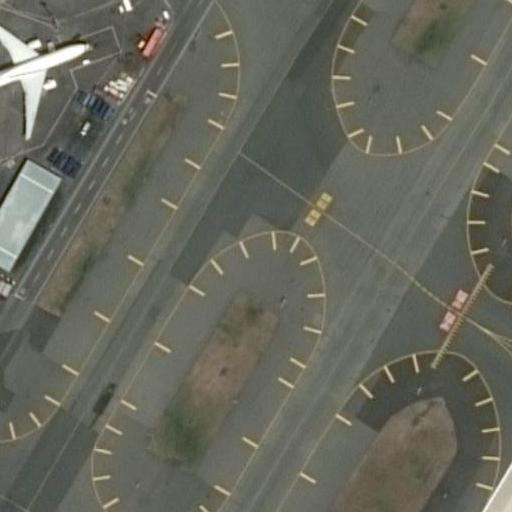Aircraft: (0, 0, 89, 139)
